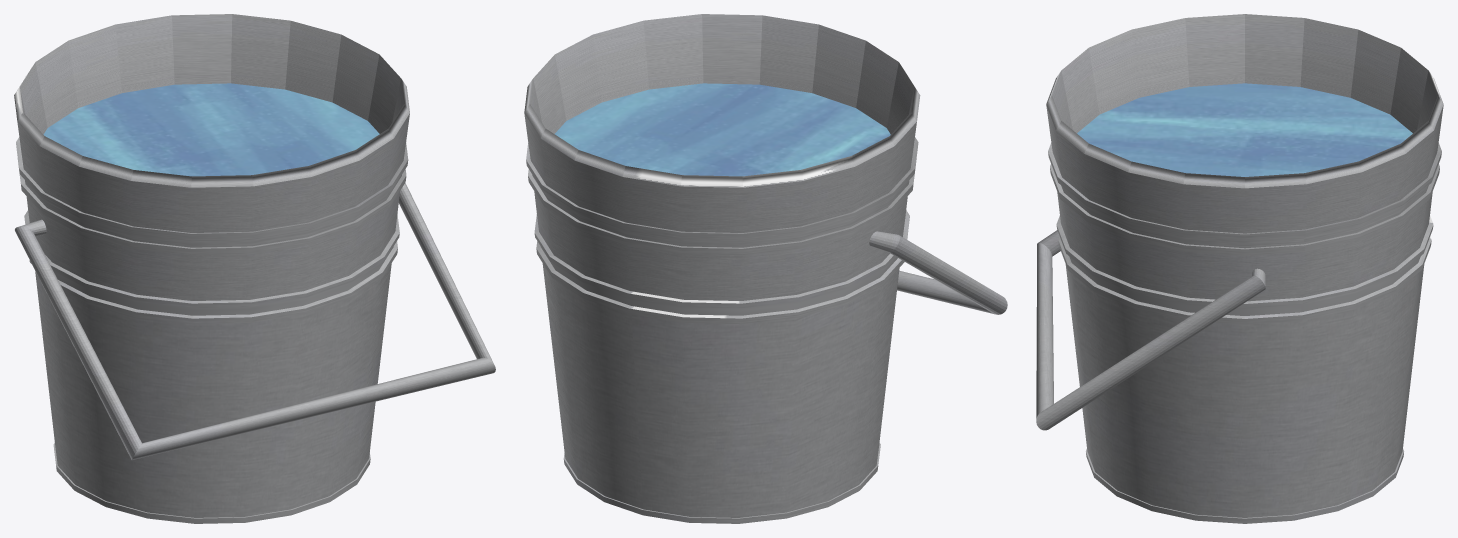
File: BucketWithWater.fbx
The picture shows the model from 3 angles, left to right: view 1: azimuth 30°, elevation 25°; view 2: azimuth 150°, elevation 25°; view 3: azimuth 270°, elevation 25°; orthographic projection.
Visible parts, largest first — view 1: PaintBocket; view 2: PaintBocket; view 3: PaintBocket.
Part boxes in pixels (box(x1,y1,x2,y2)): PaintBocket: box(14, 14, 495, 523); PaintBocket: box(524, 14, 1007, 523); PaintBocket: box(1036, 14, 1443, 523).
Size of the model in its own units: 42.73 by 40.13 by 41.
